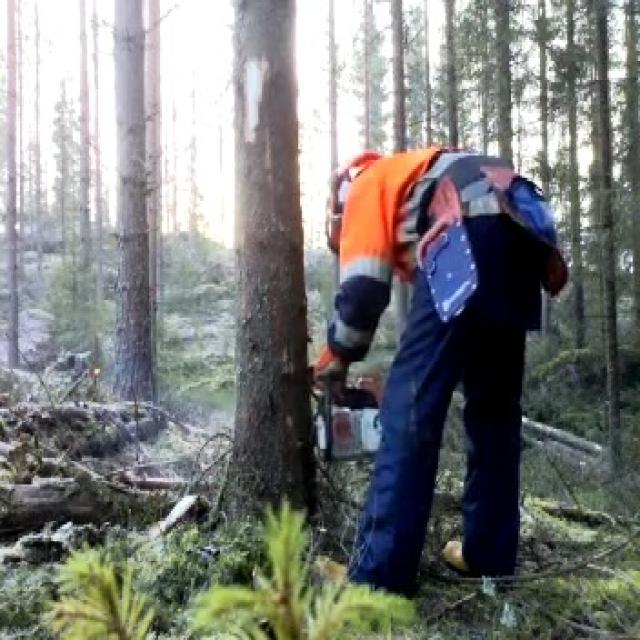Chainsaw: (296, 358, 396, 468)
